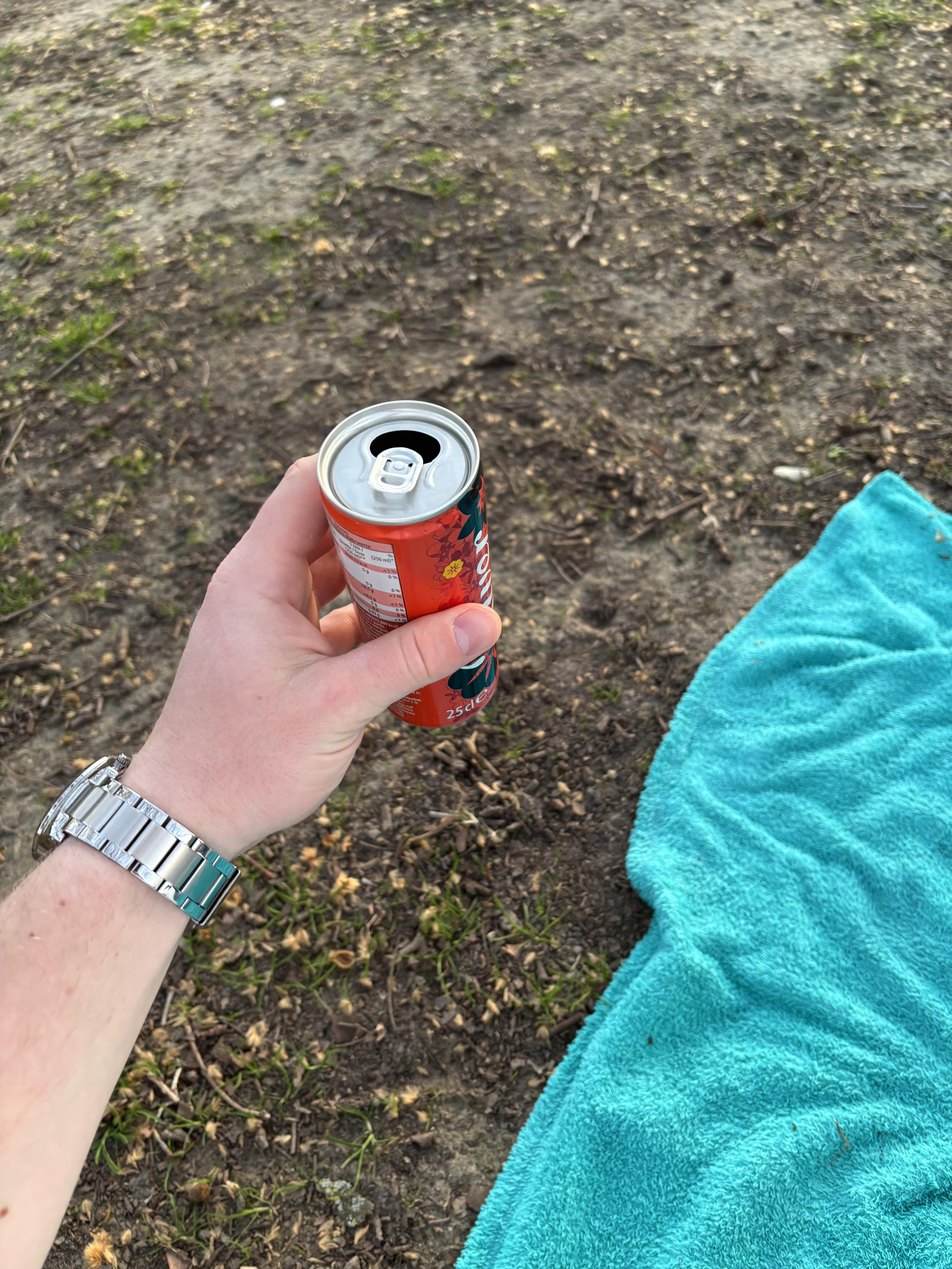Metal: (313, 389, 511, 745)
